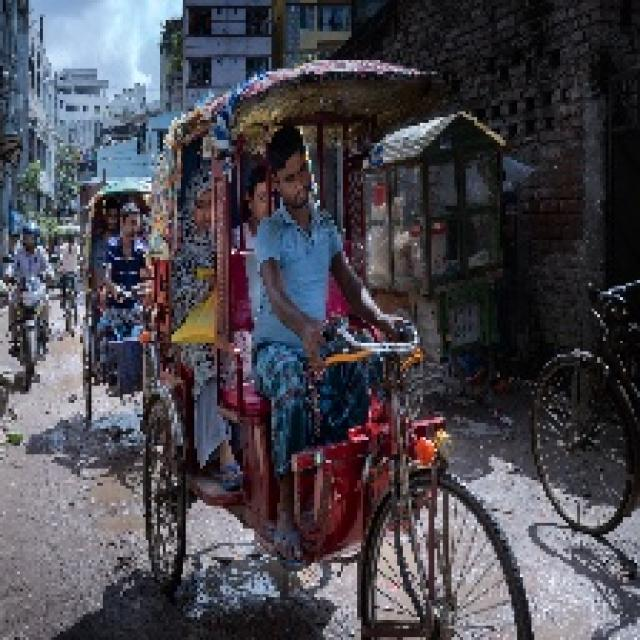bike: (7, 257, 55, 390)
rickshaw: (164, 73, 542, 625), (74, 164, 158, 436)
